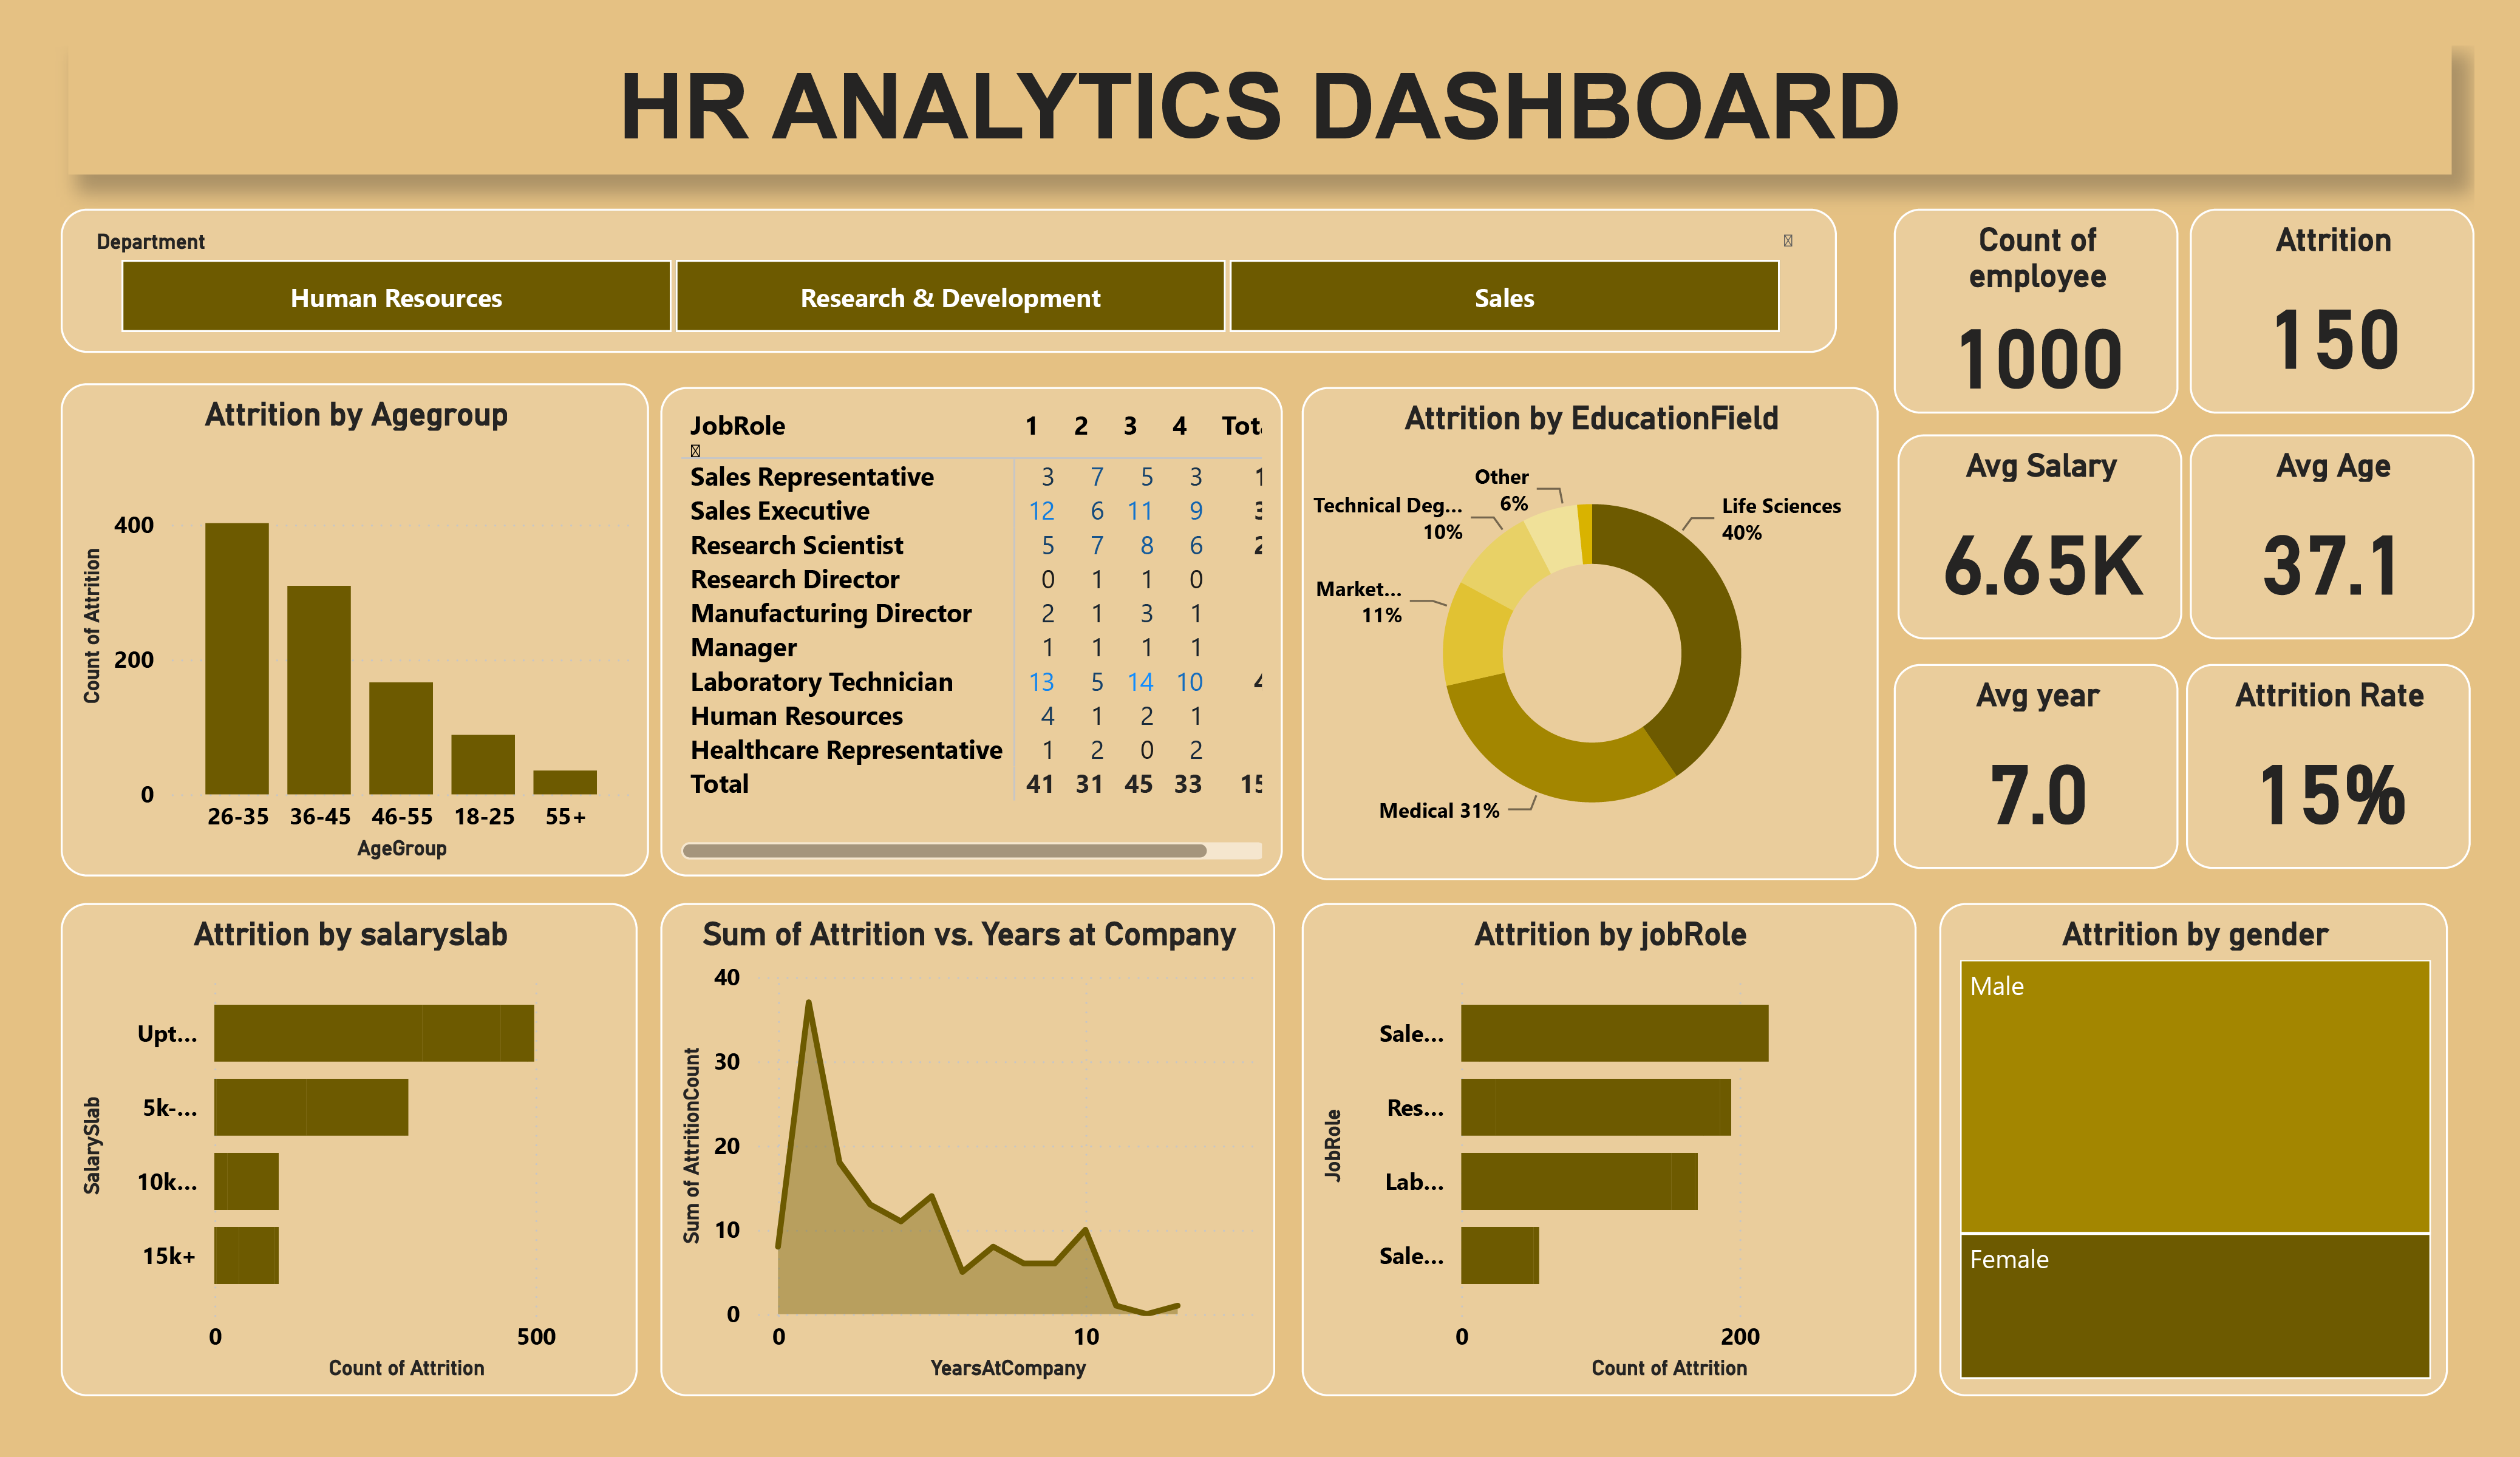

The dashboard page shown, as its layout file describes it:
{"tool":"powerbi","page":{"name":"Page 1","canvas":[1280,720],"ordinal":0},"visuals":[{"type":"card","title":"Count of employee","fields":{"Values":["CountNonNull(HR_Analytics.EmpID)"]},"box":[974,86,150,108],"z":0},{"type":"card","title":"Attrition","fields":{"Values":["Sum(HR_Analytics.AttritionCount)"]},"box":[1130,86,150,108],"z":1000},{"type":"card","title":"Attrition Rate","fields":{"Values":["HR_Analytics.AttritionRate"]},"box":[1128,326,150,108],"z":2000},{"type":"card","title":"Avg Age","fields":{"Values":["Avg(HR_Analytics.Age)"]},"box":[1130,205.3,150,108],"z":3000},{"type":"card","title":"Avg Salary","fields":{"Values":["Avg(HR_Analytics.MonthlyIncome)"]},"box":[976,205.3,150,108],"z":4000},{"type":"card","title":"Avg year","fields":{"Values":["Avg(HR_Analytics.YearsAtCompany)"]},"box":[974,326,150,108],"z":5000},{"type":"donutChart","title":" Attrition by EducationField","fields":{"Category":["HR_Analytics.EducationField"],"Y":["CountNonNull(HR_Analytics.Attrition)"]},"box":[662,180,304,260],"z":6000},{"type":"columnChart","title":" Attrition by Agegroup","fields":{"Series":["HR_Analytics.AgeGroup"],"Y":["CountNonNull(HR_Analytics.Attrition)"],"Category":["HR_Analytics.AgeGroup"]},"box":[8,178,310,260],"z":7000},{"type":"pivotTable","title":" Attrition by EducationField","fields":{"Values":["Sum(HR_Analytics.AttritionCount)"],"Rows":["HR_Analytics.JobRole"],"Columns":["HR_Analytics.JobSatisfaction"]},"box":[324,180,328,258],"z":8000},{"type":"barChart","title":" Attrition by salaryslab","fields":{"Category":["HR_Analytics.SalarySlab"],"Series":["HR_Analytics.AgeGroup"],"Y":["CountNonNull(HR_Analytics.Attrition)"]},"box":[8,452,304,260],"z":9000},{"type":"barChart","title":" Attrition by jobRole","fields":{"Category":["HR_Analytics.JobRole","HR_Analytics.SalarySlab"],"Series":["HR_Analytics.AgeGroup"],"Y":["CountNonNull(HR_Analytics.Attrition)"]},"box":[662,452,324,260],"z":10000},{"type":"areaChart","title":"Sum of Attrition vs. Years at Company","fields":{"Category":["HR_Analytics.YearsAtCompany"],"Y":["Sum(HR_Analytics.AttritionCount)"]},"box":[324,452,324,260],"z":11000},{"type":"treemap","title":" Attrition by gender","fields":{"Group":["HR_Analytics.Gender"],"Values":["Sum(HR_Analytics.AttritionCount)"]},"box":[998,452,268,260],"z":12000},{"type":"slicer","fields":{"Values":["HR_Analytics.Department"]},"box":[8,86,936,76],"z":13000},{"type":"textbox","box":[12,0,1256,68],"z":14000}]}

Visuals, with their boxes in screenshot pixels (x1, y1, x2, y2):
"Count of employee" card: pyautogui.locateOnScreen(1894, 209, 2179, 413)
"Attrition" card: pyautogui.locateOnScreen(2190, 209, 2474, 413)
"Attrition Rate" card: pyautogui.locateOnScreen(2186, 664, 2471, 869)
"Avg Age" card: pyautogui.locateOnScreen(2190, 435, 2474, 640)
"Avg Salary" card: pyautogui.locateOnScreen(1898, 435, 2182, 640)
"Avg year" card: pyautogui.locateOnScreen(1894, 664, 2179, 869)
" Attrition by EducationField" donutChart: pyautogui.locateOnScreen(1302, 387, 1879, 880)
" Attrition by Agegroup" columnChart: pyautogui.locateOnScreen(61, 383, 649, 877)
" Attrition by EducationField" pivotTable: pyautogui.locateOnScreen(661, 387, 1282, 877)
" Attrition by salaryslab" barChart: pyautogui.locateOnScreen(61, 903, 638, 1396)
" Attrition by jobRole" barChart: pyautogui.locateOnScreen(1302, 903, 1916, 1396)
"Sum of Attrition vs. Years at Company" areaChart: pyautogui.locateOnScreen(661, 903, 1275, 1396)
" Attrition by gender" treemap: pyautogui.locateOnScreen(1939, 903, 2448, 1396)
slicer - HR_Analytics.Department: pyautogui.locateOnScreen(61, 209, 1837, 353)
textbox: pyautogui.locateOnScreen(68, 46, 2452, 175)
